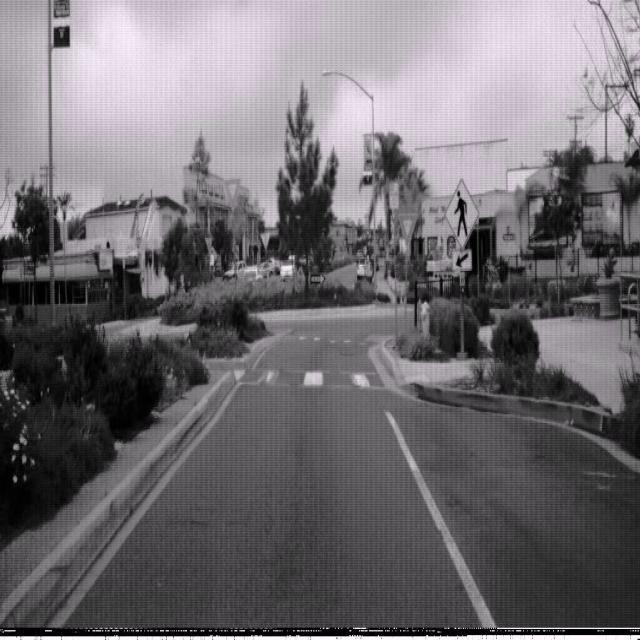pedestrianCrossing: (444, 177, 480, 250)
yield: (398, 211, 418, 249), (222, 175, 242, 211)
